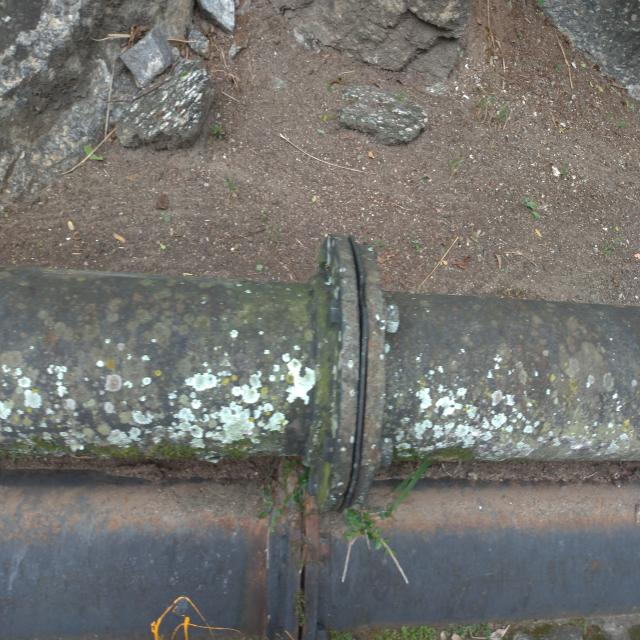gas: (2, 271, 637, 467)
